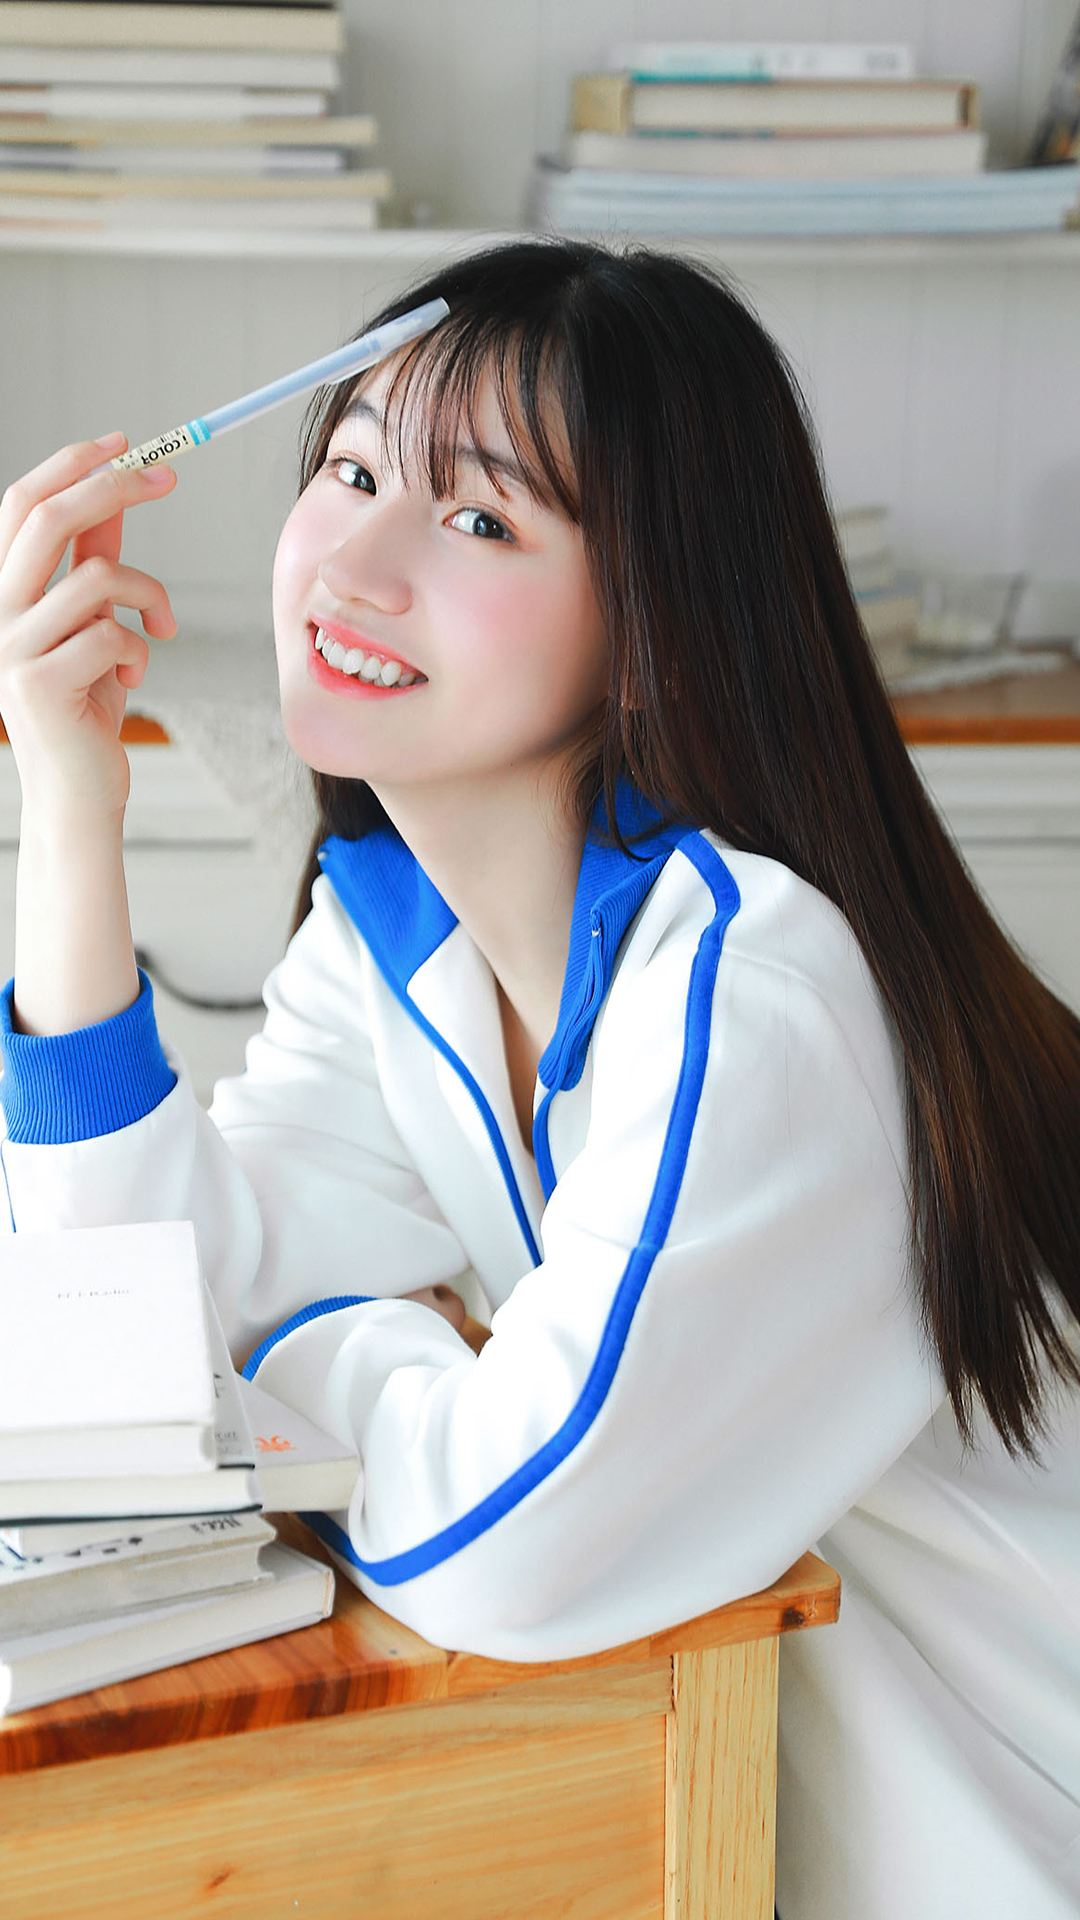person: (108, 335, 1071, 1502)
